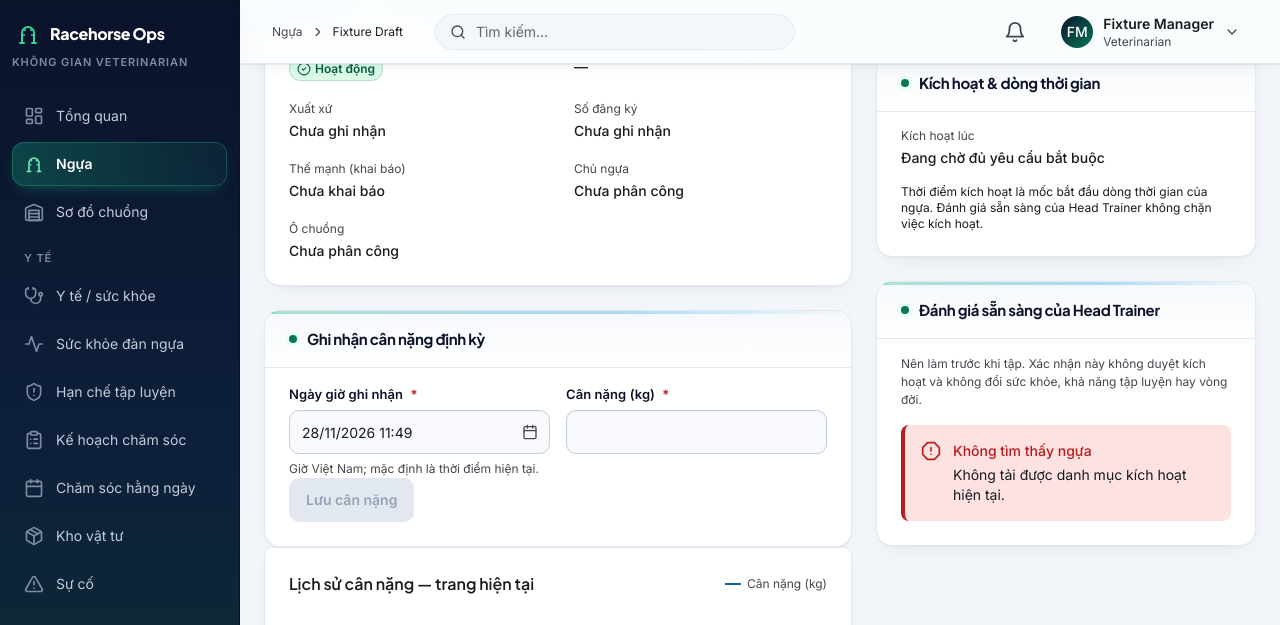
Test case: retains the latest weight from the server after recording an older measurement
(page scrolled)
Replace the text in the field labelled "Ngày giờ ghi nhận" with "2026-01-01T10:00". click: (420, 432)
box: [289,410,550,454]
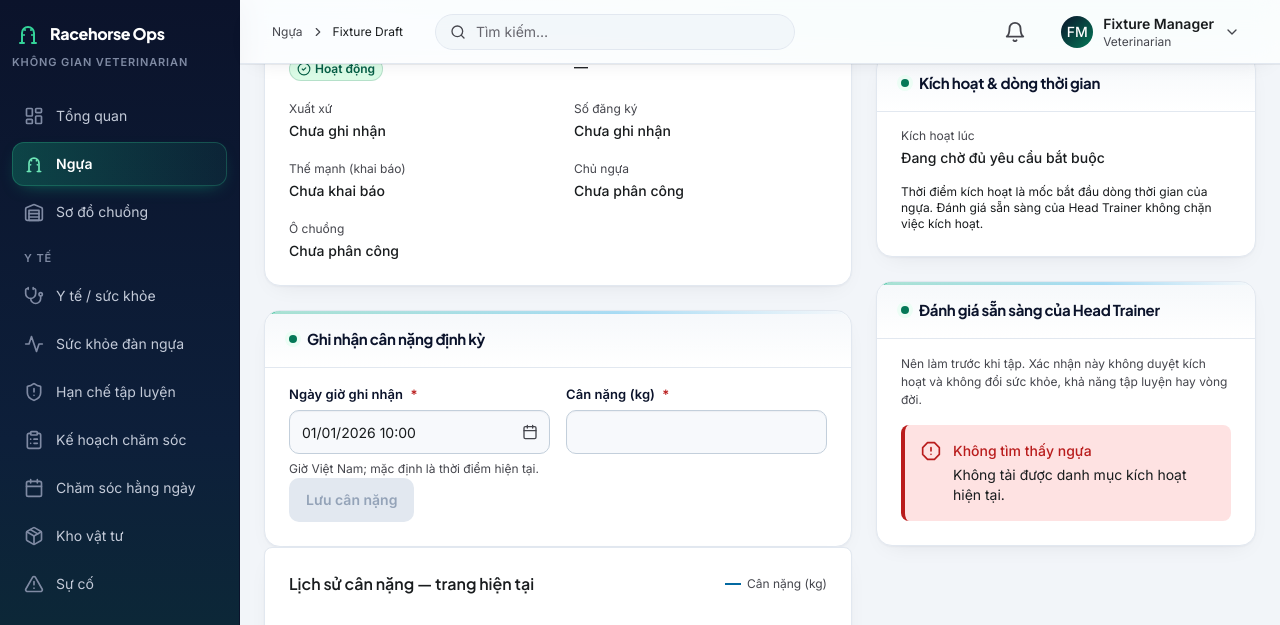
Type "430" into the number field labelled "Cân nặng (kg)". click: (696, 432)
box: [566,410,827,454]
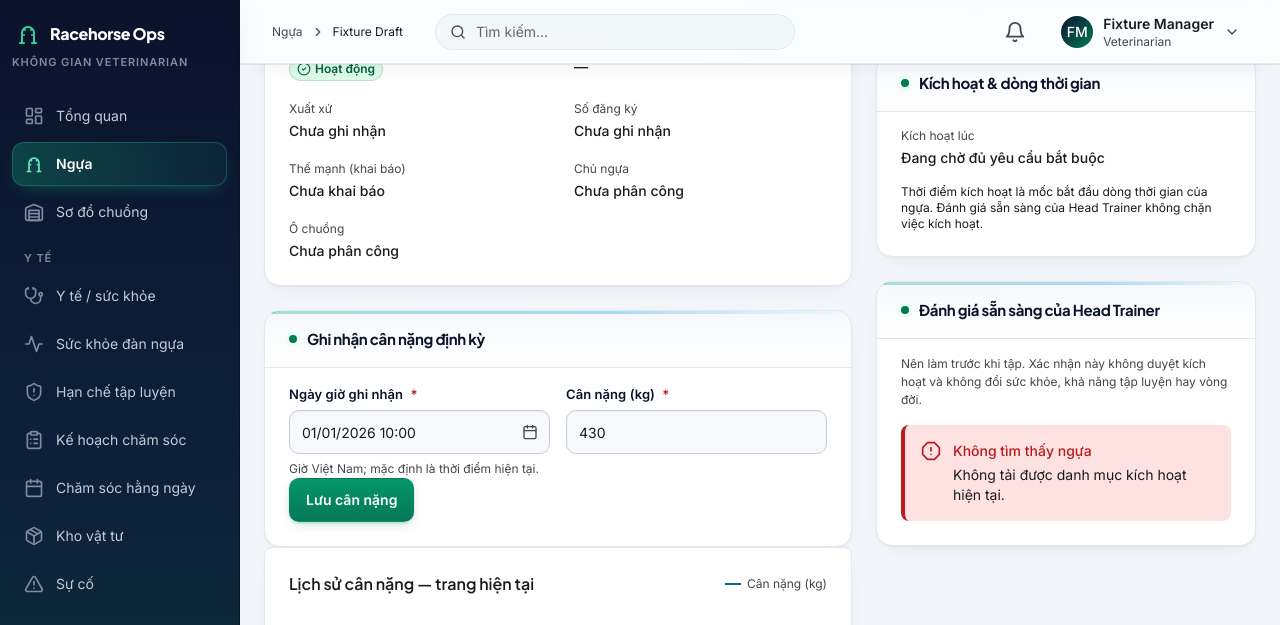
Click the button "Lưu cân nặng". click: (352, 500)
box: [289,478,414,522]
(page scrolled)
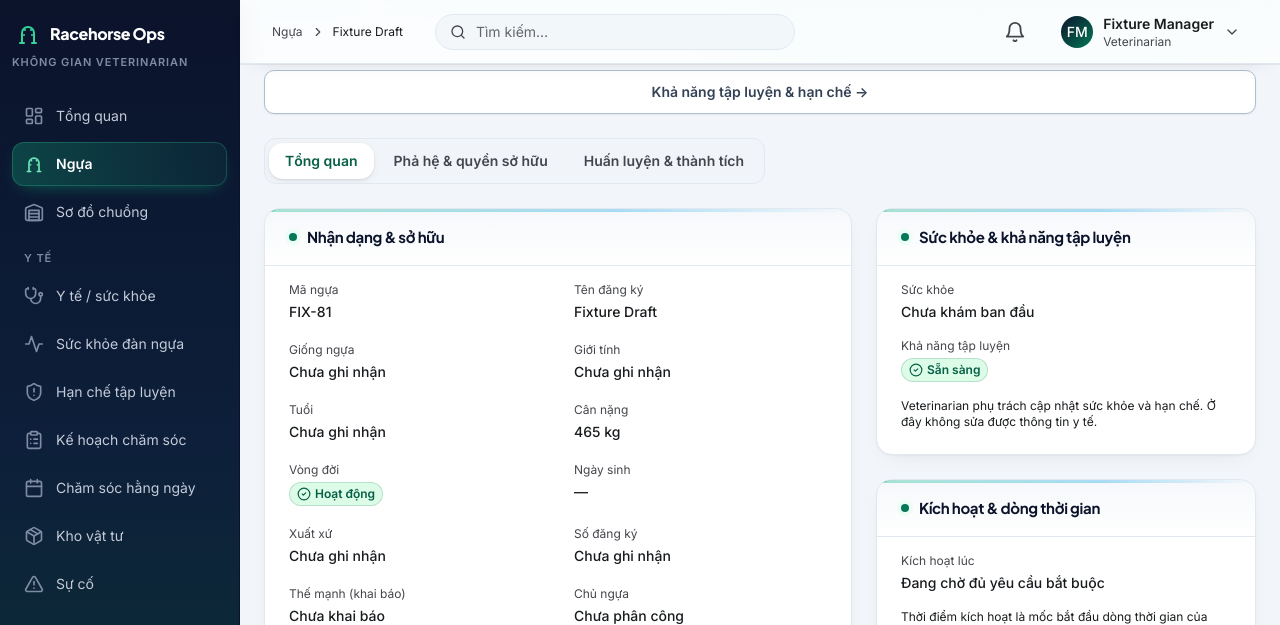
Check: the text "465 kg" is shown, box [574,422,620,442]
